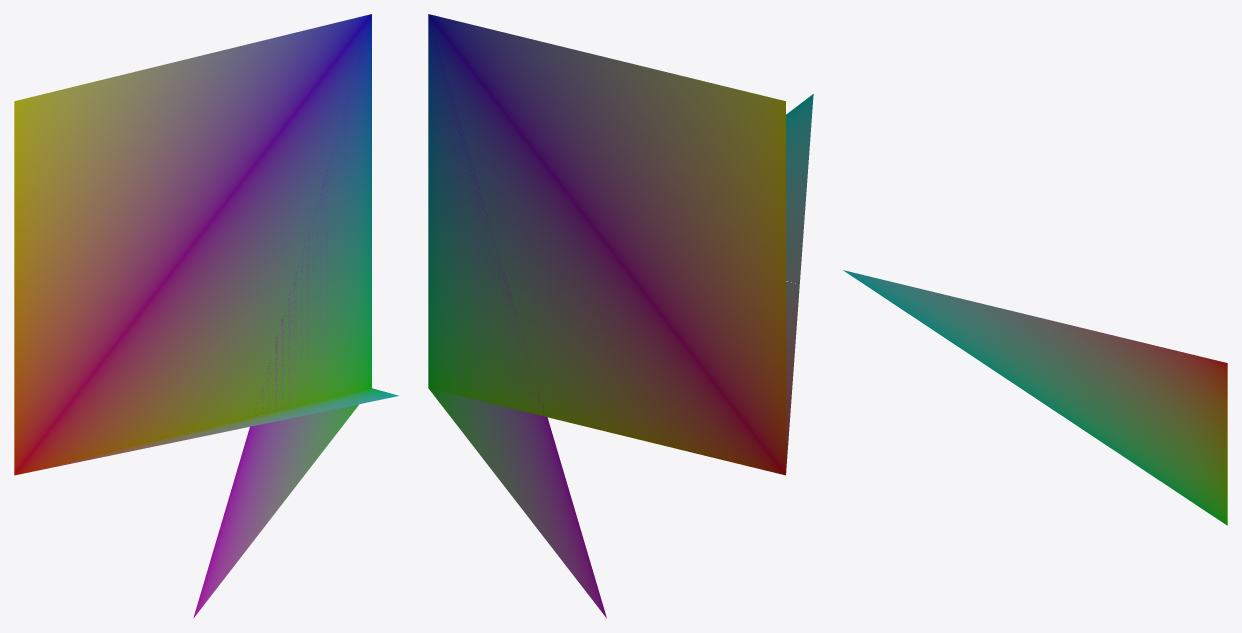
The model's file is seed_vertex_colors_multi.dae.
The picture shows the model from 3 angles, left to right: view 1: azimuth 30°, elevation 25°; view 2: azimuth 150°, elevation 25°; view 3: azimuth 270°, elevation 25°; orthographic projection. The views are drawn at different scales.
Visible parts, largest first — view 1: ColorNode; view 2: ColorNode; view 3: ColorNode.
Boxes of the visible parts, x1=… form: ColorNode: x1=14, y1=14, x2=398, y2=618; ColorNode: x1=428, y1=14, x2=813, y2=618; ColorNode: x1=843, y1=270, x2=1227, y2=525.
Bounding box in the file's own units: 1 × 1.5 × 1.
